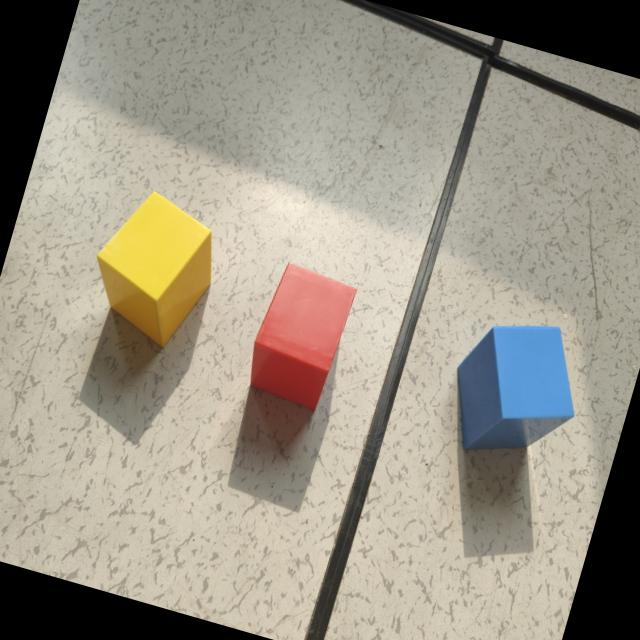blue: (455, 325, 575, 459)
red: (250, 265, 357, 412)
yellow: (96, 193, 211, 349)
